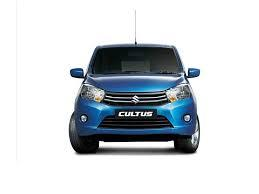Hatchback: (64, 35, 211, 163)
